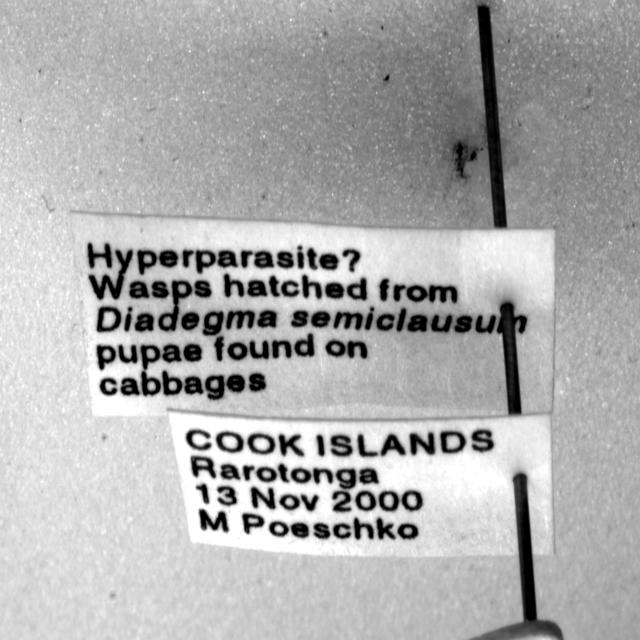typed_label: (71, 212, 555, 416), (170, 412, 554, 557)
